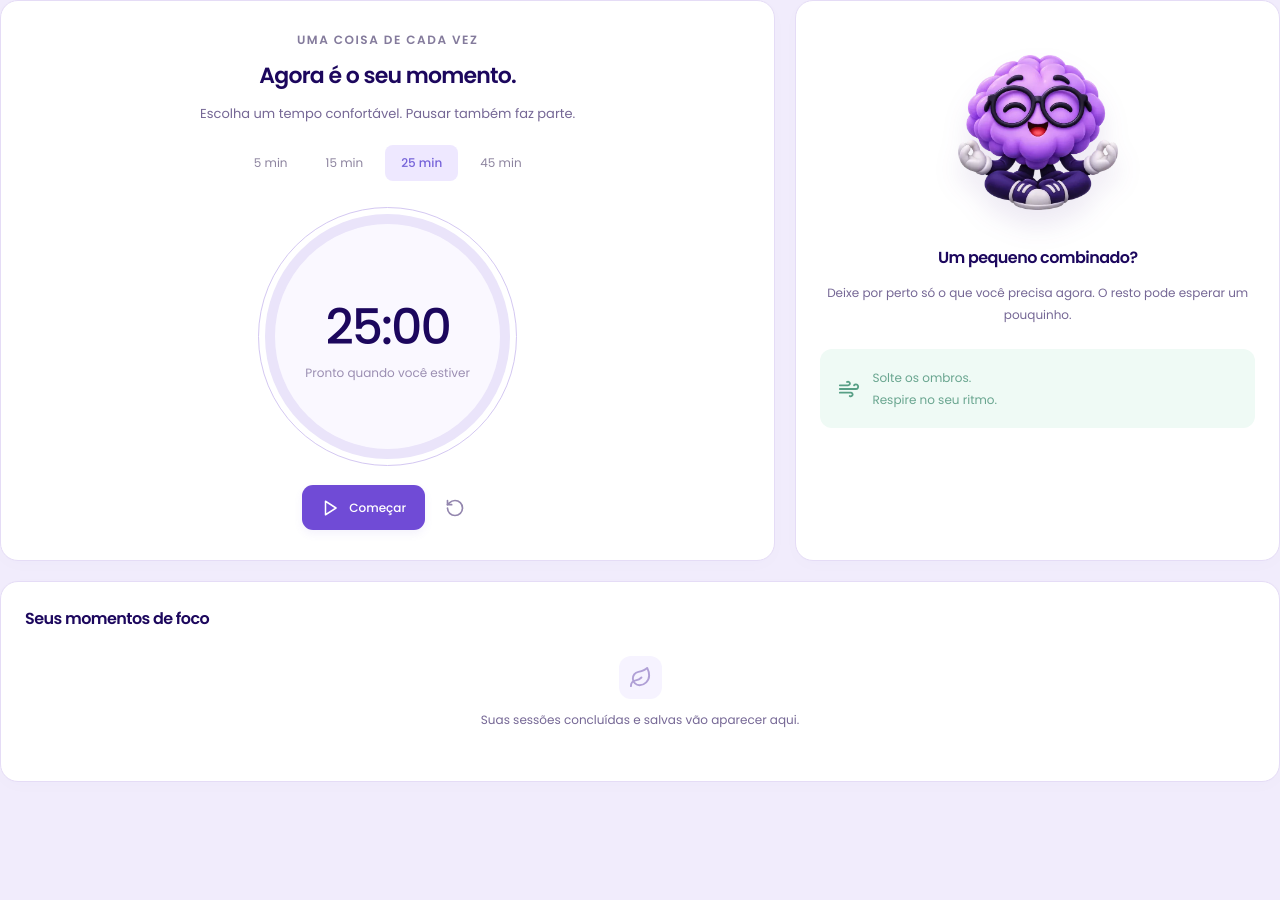
Temporizador real › pausa, retoma e só oferece salvar ao terminar
Step 1. Click the button "5 min" → (271, 163), box [238,145,304,181]
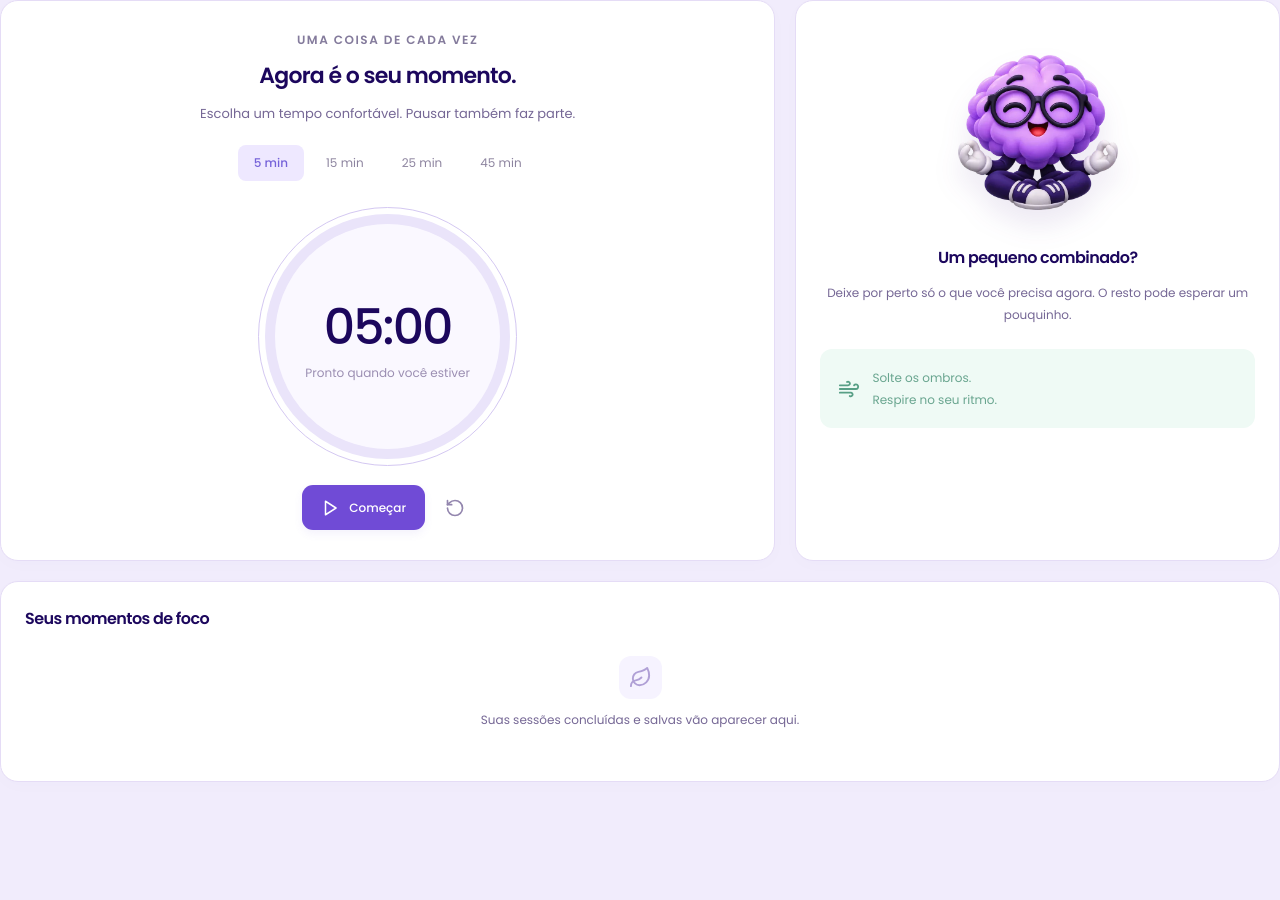
Step 2. Click the button "Começar" → (364, 508), box [302,485,425,530]
Wait 60000 ms
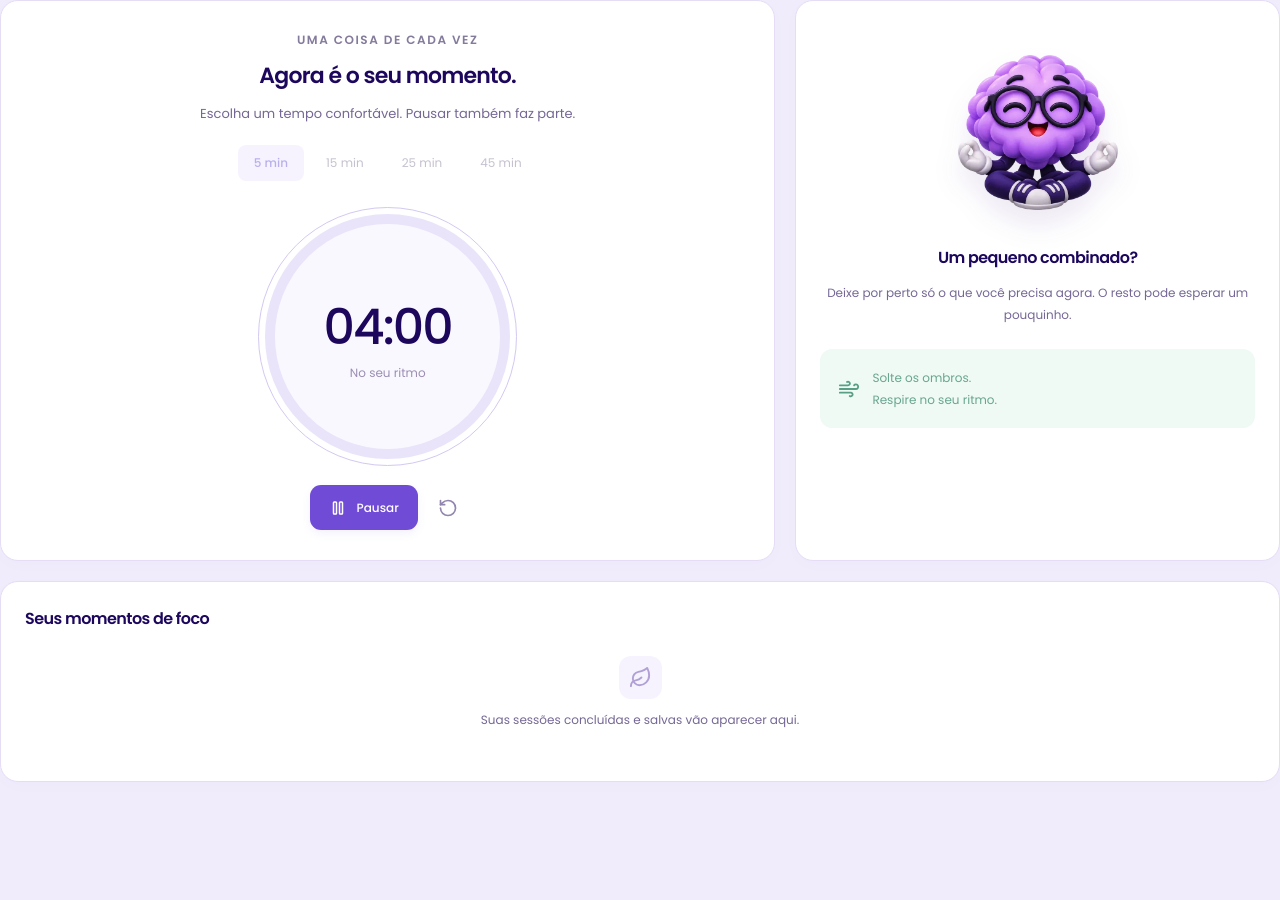
Expected: the element showing "04:00 No seu ritmo" is shown, [265,214,510,459]
Step 3. Click the button "Pausar" → (364, 508), box [310,485,418,530]
Wait 60000 ms
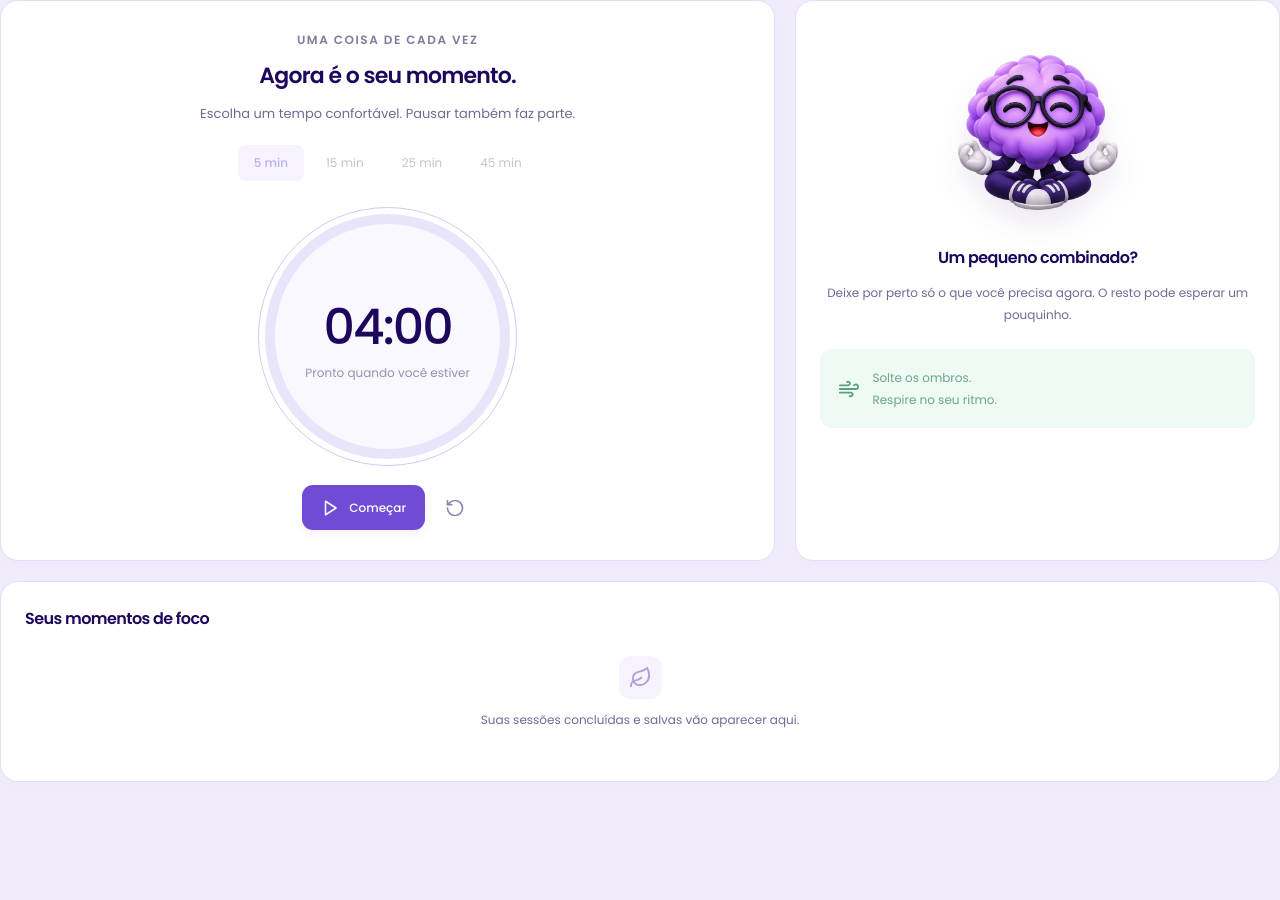
Expected: the element showing "04:00 Pronto quando você estiver" is shown, [265,214,510,459]
Step 4. Click the button "Começar" → (364, 508), box [302,485,425,530]
Wait 240000 ms
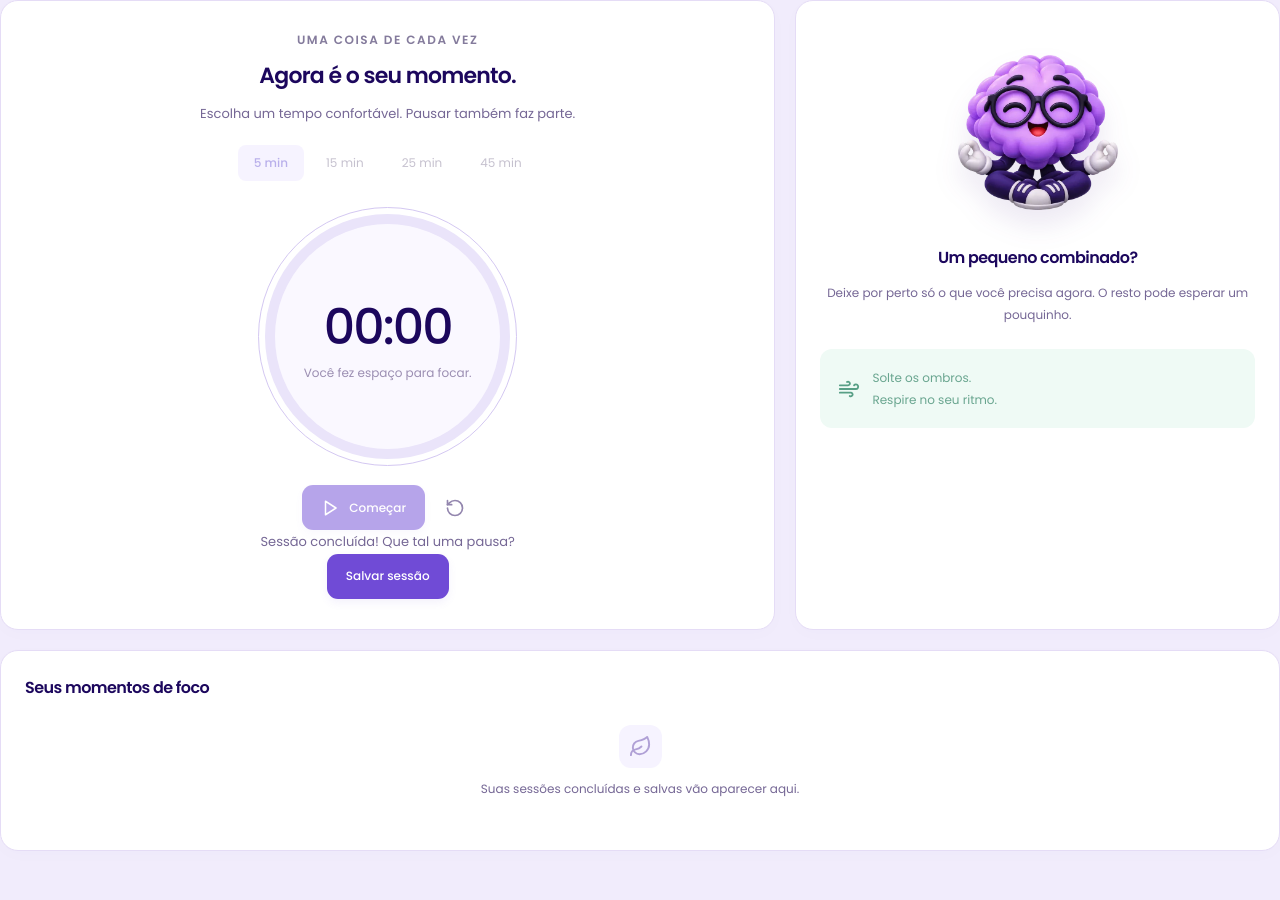
Expected: the element showing "00:00 Você fez espaço para focar." is shown, [265,214,510,459]
Step 5. Click the button "Salvar sessão" → (388, 576), box [327,554,449,599]
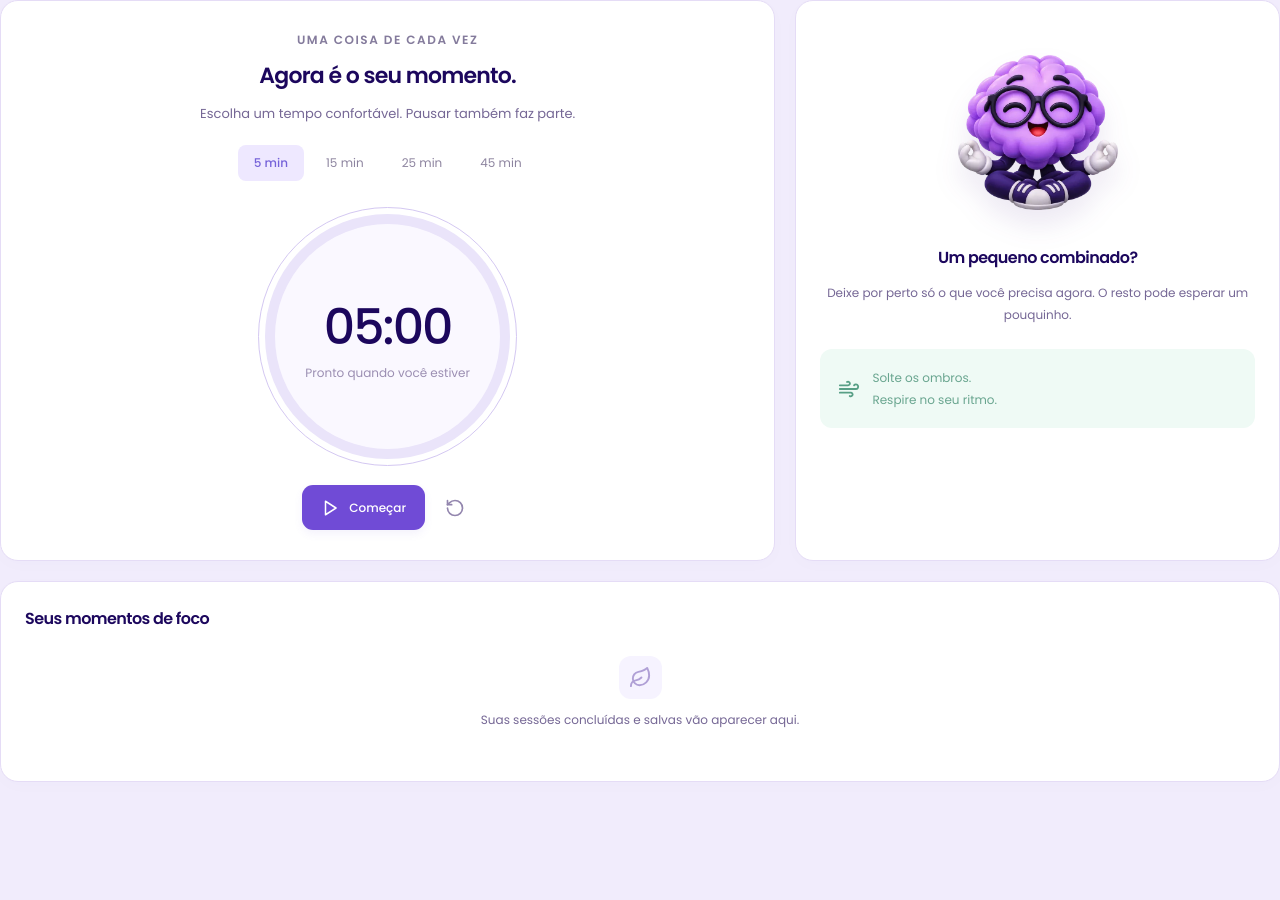
Expected: the element showing "05:00 Pronto quando você estiver" is shown, [265,214,510,459]
